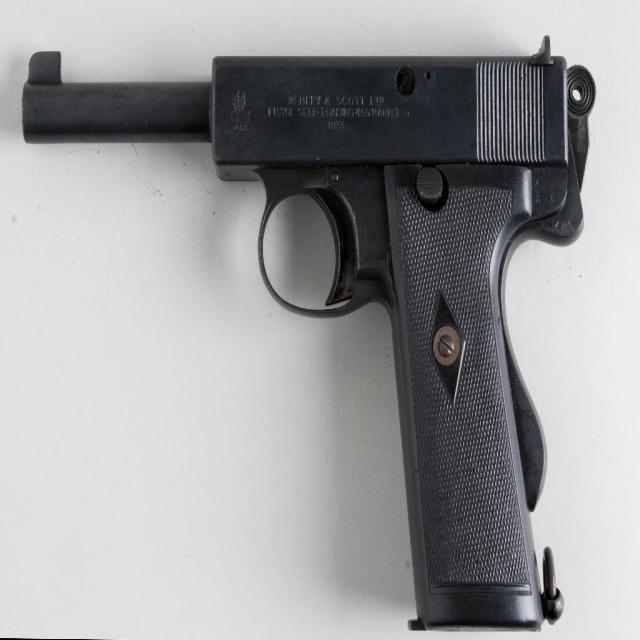Gun: (25, 45, 594, 629)
